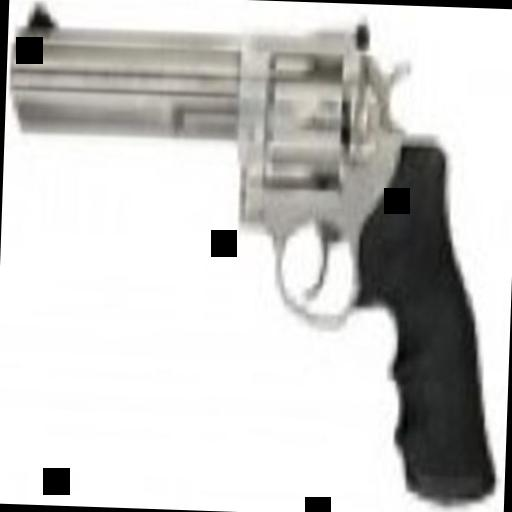Handgun: (2, 0, 512, 501)
